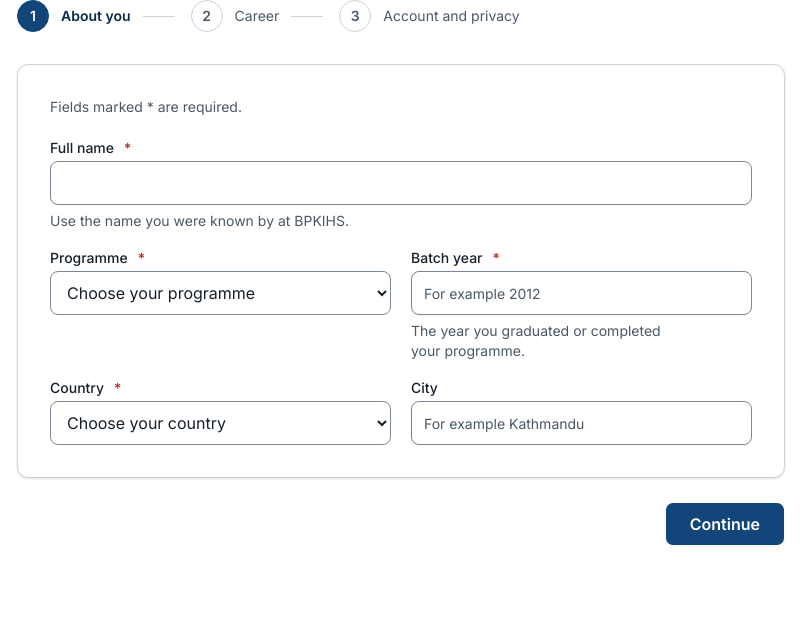
RegisterForm › shows field errors and stays on the first step when Next is pressed empty
This screenshot has width=803, height=640.
Click the button "Continue". click: (725,524)
box: [665, 502, 785, 546]
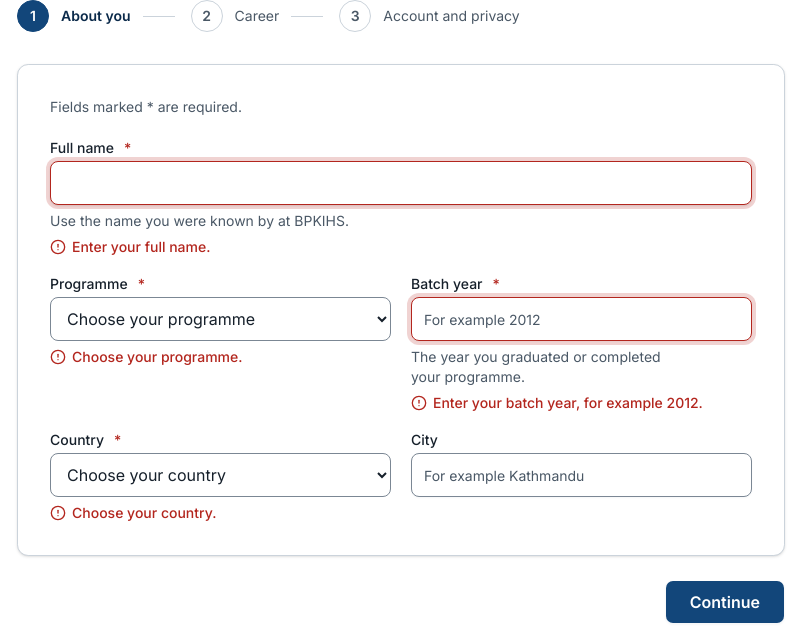
Expected: the text "Enter your full name." is shown, [72, 237, 210, 257]
Expected: the text "Choose your programme." is shown, [72, 347, 242, 367]
Expected: the text "Choose your country." is shown, [72, 503, 216, 523]
